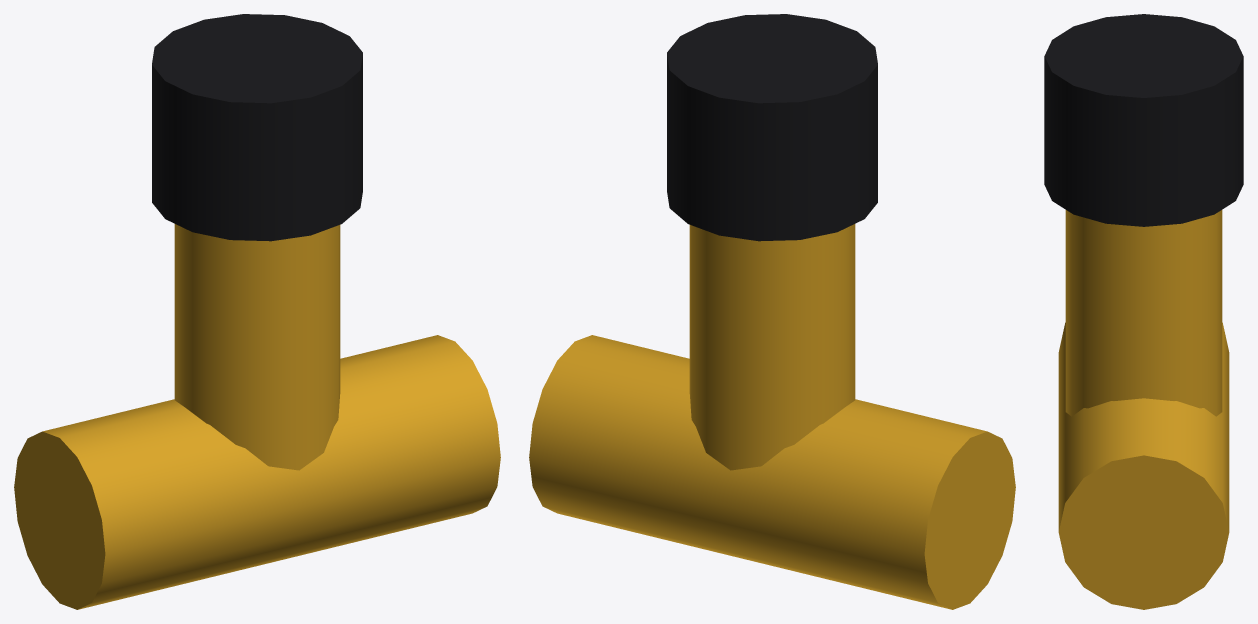
The model's file is valve-thermostatic-mixing.glb.
3 renders of one model, left to right at view 1: azimuth 30°, elevation 25°; view 2: azimuth 150°, elevation 25°; view 3: azimuth 270°, elevation 25°, orthographic. The views are drawn at different scales.
Parts seen in each view (by area): view 1: plumbing-fitting-mixing-valve; view 2: plumbing-fitting-mixing-valve; view 3: plumbing-fitting-mixing-valve.
Boxes of the visible parts, <box> form: plumbing-fitting-mixing-valve: <box>14,14,500,609</box>; plumbing-fitting-mixing-valve: <box>529,14,1015,609</box>; plumbing-fitting-mixing-valve: <box>1044,14,1243,609</box>.
Size of the model in its own units: 0.12 by 0.144 by 0.056.
